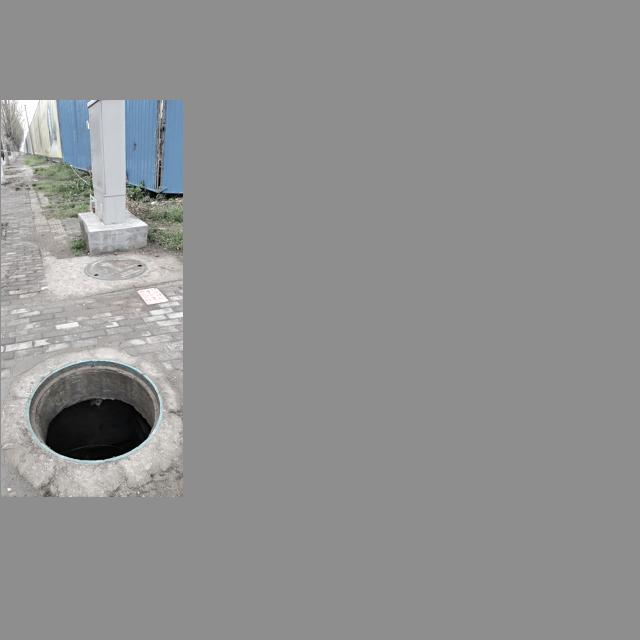lose: (25, 358, 164, 463)
